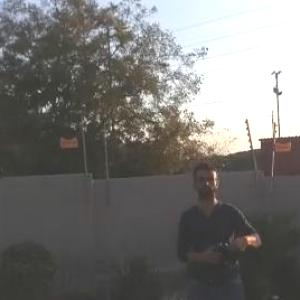follow: (172, 157, 268, 299)
